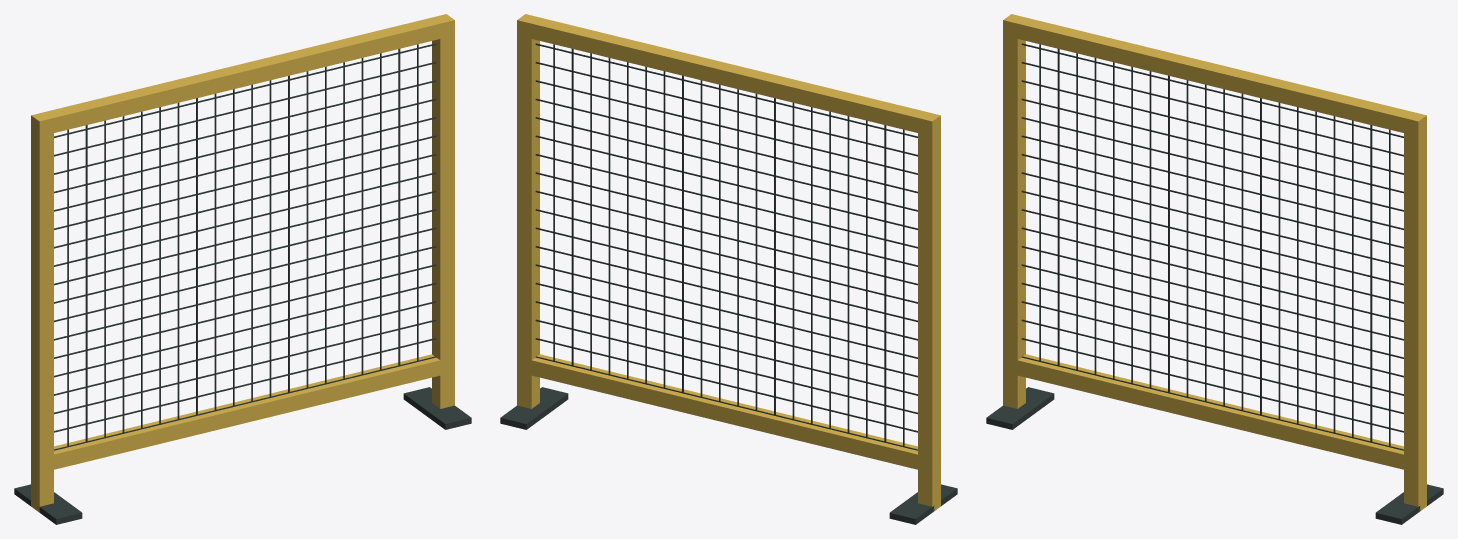
Rendered from safety-fence.glb.
3 renders of one model, left to right at view 1: azimuth 30°, elevation 25°; view 2: azimuth 150°, elevation 25°; view 3: azimuth 330°, elevation 25°, orthographic.
Visible parts, largest first — view 1: HorizontalRail1.7650000000000001, Upright-1, HorizontalRail0.216, Upright1, Footplate1, Footplate-1, VerticalWires19, VerticalWires9, VerticalWires2, VerticalWires4, VerticalWires7, HorizontalWires11 (+32 smaller); view 2: HorizontalRail1.7650000000000001, Upright-1, HorizontalRail0.216, Upright1, Footplate1, Footplate-1, VerticalWires19, VerticalWires14, VerticalWires9, VerticalWires2, VerticalWires17, HorizontalWires11 (+32 smaller); view 3: HorizontalRail1.7650000000000001, Upright1, HorizontalRail0.216, Upright-1, Footplate-1, Footplate1, VerticalWires2, VerticalWires7, VerticalWires12, VerticalWires19, VerticalWires4, HorizontalWires11 (+32 smaller).
Part boxes in pixels (left/top/right/bottom): HorizontalRail1.7650000000000001: left=46, top=17, right=440, bottom=132; Upright-1: left=31, top=112, right=53, bottom=512; HorizontalRail0.216: left=54, top=354, right=440, bottom=469; Upright1: left=432, top=14, right=454, bottom=408; Footplate1: left=403, top=387, right=471, bottom=429; Footplate-1: left=14, top=484, right=82, bottom=524; VerticalWires19: left=398, top=49, right=400, bottom=366; VerticalWires9: left=214, top=93, right=216, bottom=410; VerticalWires2: left=85, top=125, right=87, bottom=441; VerticalWires4: left=122, top=116, right=124, bottom=433; VerticalWires7: left=177, top=102, right=179, bottom=419; HorizontalWires11: left=54, top=172, right=436, bottom=266; HorizontalRail1.7650000000000001: left=531, top=17, right=925, bottom=132; Upright-1: left=918, top=112, right=940, bottom=510; HorizontalRail0.216: left=531, top=354, right=917, bottom=469; Upright1: left=517, top=14, right=539, bottom=408; Footplate1: left=500, top=387, right=568, bottom=429; Footplate-1: left=889, top=484, right=957, bottom=524; VerticalWires19: left=571, top=49, right=573, bottom=366; VerticalWires14: left=663, top=71, right=665, bottom=388; VerticalWires9: left=755, top=93, right=757, bottom=410; VerticalWires2: left=884, top=125, right=886, bottom=441; VerticalWires17: left=608, top=58, right=610, bottom=375; HorizontalWires11: left=535, top=172, right=917, bottom=266; HorizontalRail1.7650000000000001: left=1017, top=17, right=1411, bottom=132; Upright1: left=1404, top=112, right=1426, bottom=510; HorizontalRail0.216: left=1017, top=354, right=1403, bottom=469; Upright-1: left=1003, top=14, right=1025, bottom=408; Footplate-1: left=986, top=387, right=1054, bottom=429; Footplate1: left=1375, top=484, right=1443, bottom=524; VerticalWires2: left=1057, top=49, right=1059, bottom=366; VerticalWires7: left=1149, top=71, right=1151, bottom=388; VerticalWires12: left=1241, top=93, right=1243, bottom=410; VerticalWires19: left=1370, top=125, right=1372, bottom=441; VerticalWires4: left=1094, top=58, right=1096, bottom=375; HorizontalWires11: left=1021, top=172, right=1403, bottom=266.
Size of the model in its own units: 2 by 1.8 by 0.35.
